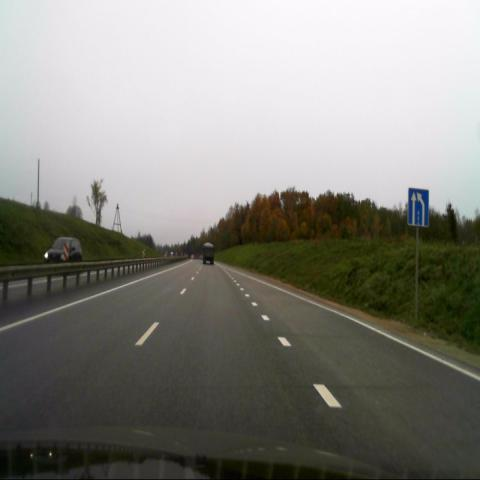5_15_5: (407, 187, 430, 227)
